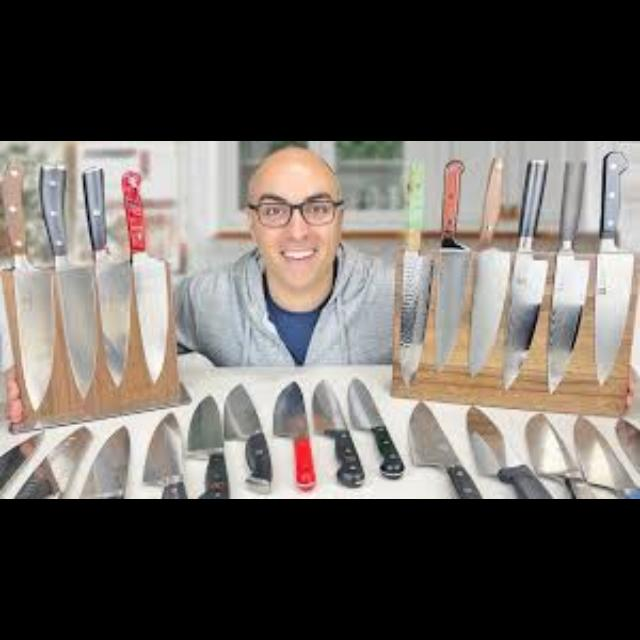Knife: (36, 162, 96, 410), (118, 169, 176, 405), (499, 158, 548, 390), (0, 154, 38, 433), (81, 164, 123, 388), (546, 158, 586, 392), (593, 150, 631, 386), (467, 156, 503, 378), (466, 406, 552, 496), (406, 401, 482, 497), (433, 158, 467, 372), (540, 414, 620, 498), (312, 378, 364, 486), (13, 425, 91, 497), (346, 378, 402, 478), (400, 158, 424, 388), (572, 417, 638, 498), (222, 383, 270, 493), (271, 380, 315, 490), (522, 414, 576, 498), (186, 395, 228, 497), (141, 412, 187, 498), (80, 425, 130, 497), (0, 431, 42, 497), (614, 414, 638, 488)
